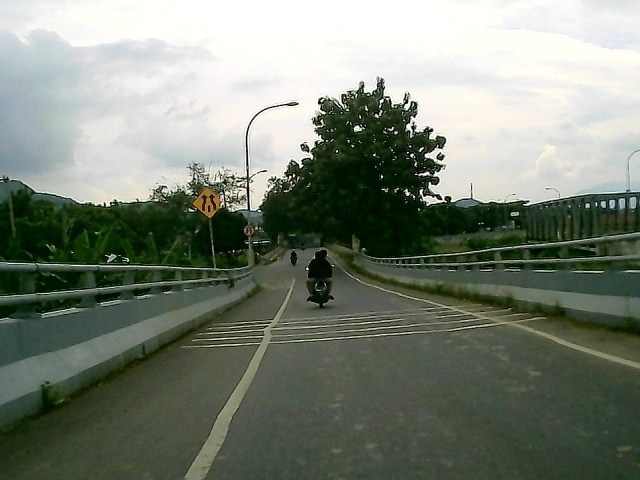Akhir bangunan pemisah satu arah: (191, 188, 225, 220)
Dilarang berbalik arah: (242, 225, 255, 237)
